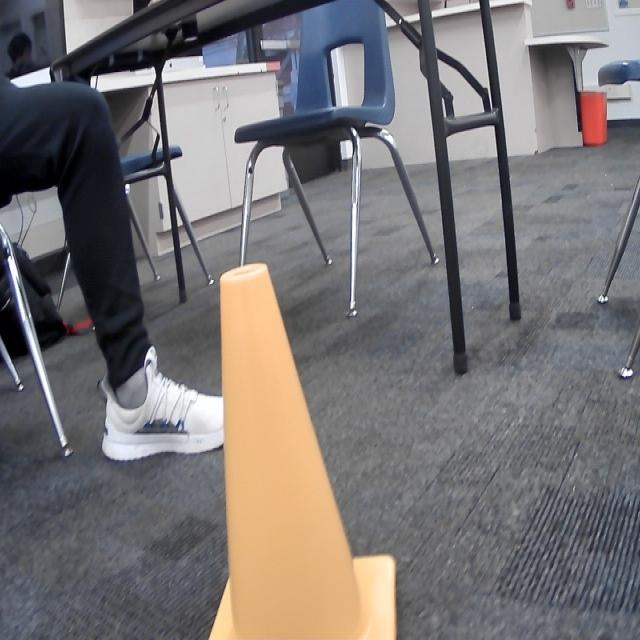cone: (203, 254, 402, 640)
